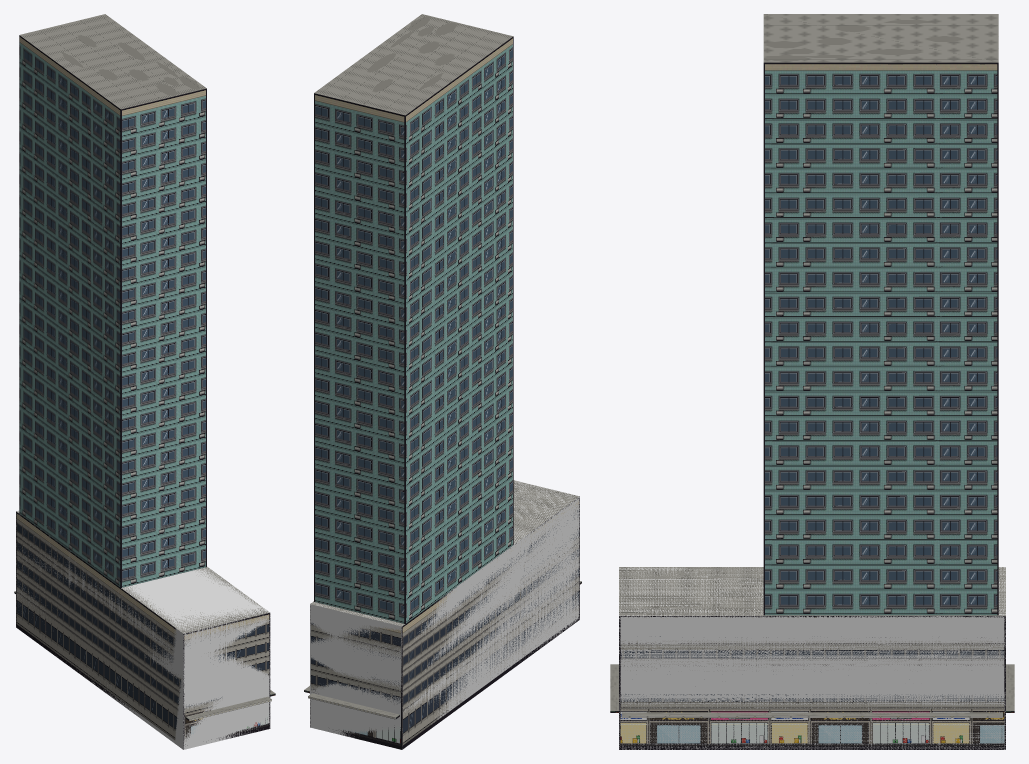
3 renders of one model, left to right at view 1: azimuth 30°, elevation 25°; view 2: azimuth 150°, elevation 25°; view 3: azimuth 270°, elevation 25°, orthographic. The views are drawn at different scales.
Visible parts, largest first — view 1: 19D-P03, COL_19D-P03_0; view 2: 19D-P03, COL_19D-P03_0; view 3: 19D-P03, COL_19D-P03_0.
Boxes of the visible parts, x1,y1,x2,y2 form: 19D-P03: (14, 14, 275, 749); COL_19D-P03_0: (16, 511, 270, 749); 19D-P03: (304, 14, 581, 749); COL_19D-P03_0: (310, 481, 579, 737); 19D-P03: (610, 14, 1014, 749); COL_19D-P03_0: (619, 567, 1005, 749).
Bounding box in the file's own units: 13.9 × 84.5 × 45.1.
1 material, 1 textured.
